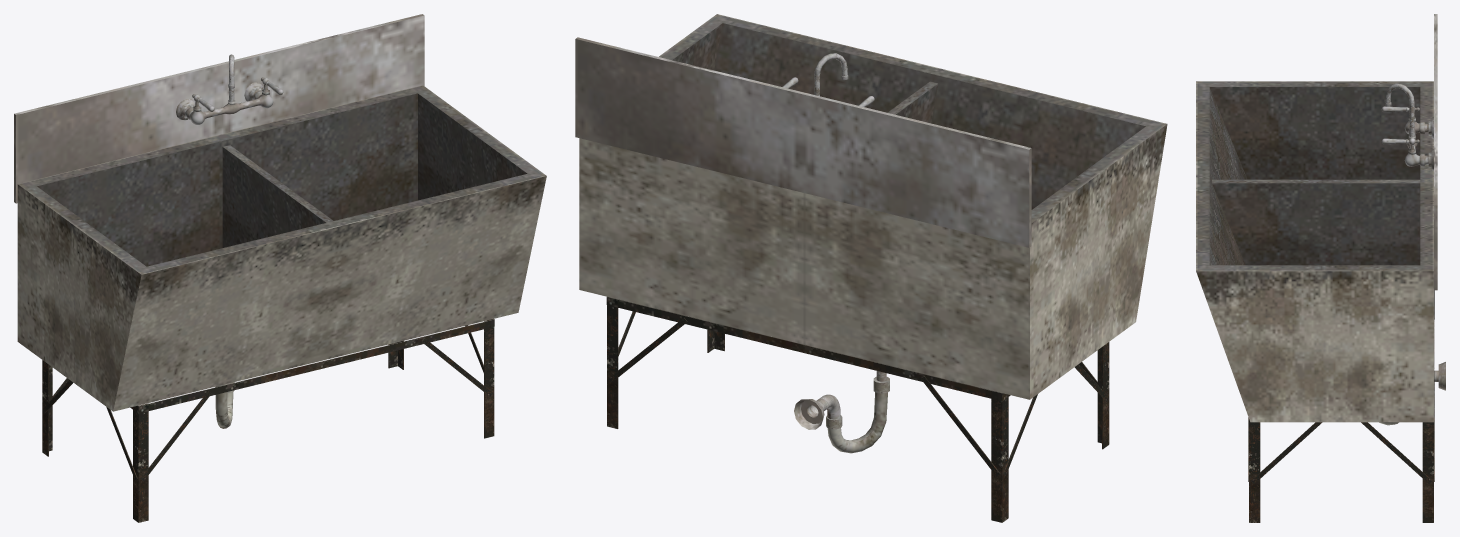
Rendered from 138_DoubleLaundrySink.fbx.
The picture shows the model from 3 angles, left to right: view 1: azimuth 30°, elevation 25°; view 2: azimuth 150°, elevation 25°; view 3: azimuth 270°, elevation 25°; orthographic projection. The views are drawn at different scales.
Visible parts, largest first — view 1: LOD_1_Group_2_Sub_1__sm30_138_DoubleLaundrySink01A_A_Mat; view 2: LOD_1_Group_2_Sub_1__sm30_138_DoubleLaundrySink01A_A_Mat; view 3: LOD_1_Group_2_Sub_1__sm30_138_DoubleLaundrySink01A_A_Mat.
Part boxes in pixels (bbox=[...]): LOD_1_Group_2_Sub_1__sm30_138_DoubleLaundrySink01A_A_Mat: bbox=[14, 14, 546, 522]; LOD_1_Group_2_Sub_1__sm30_138_DoubleLaundrySink01A_A_Mat: bbox=[575, 14, 1167, 522]; LOD_1_Group_2_Sub_1__sm30_138_DoubleLaundrySink01A_A_Mat: bbox=[1196, 14, 1445, 522].
Size of the model in its own units: 1.31 by 1.12 by 0.7207.
